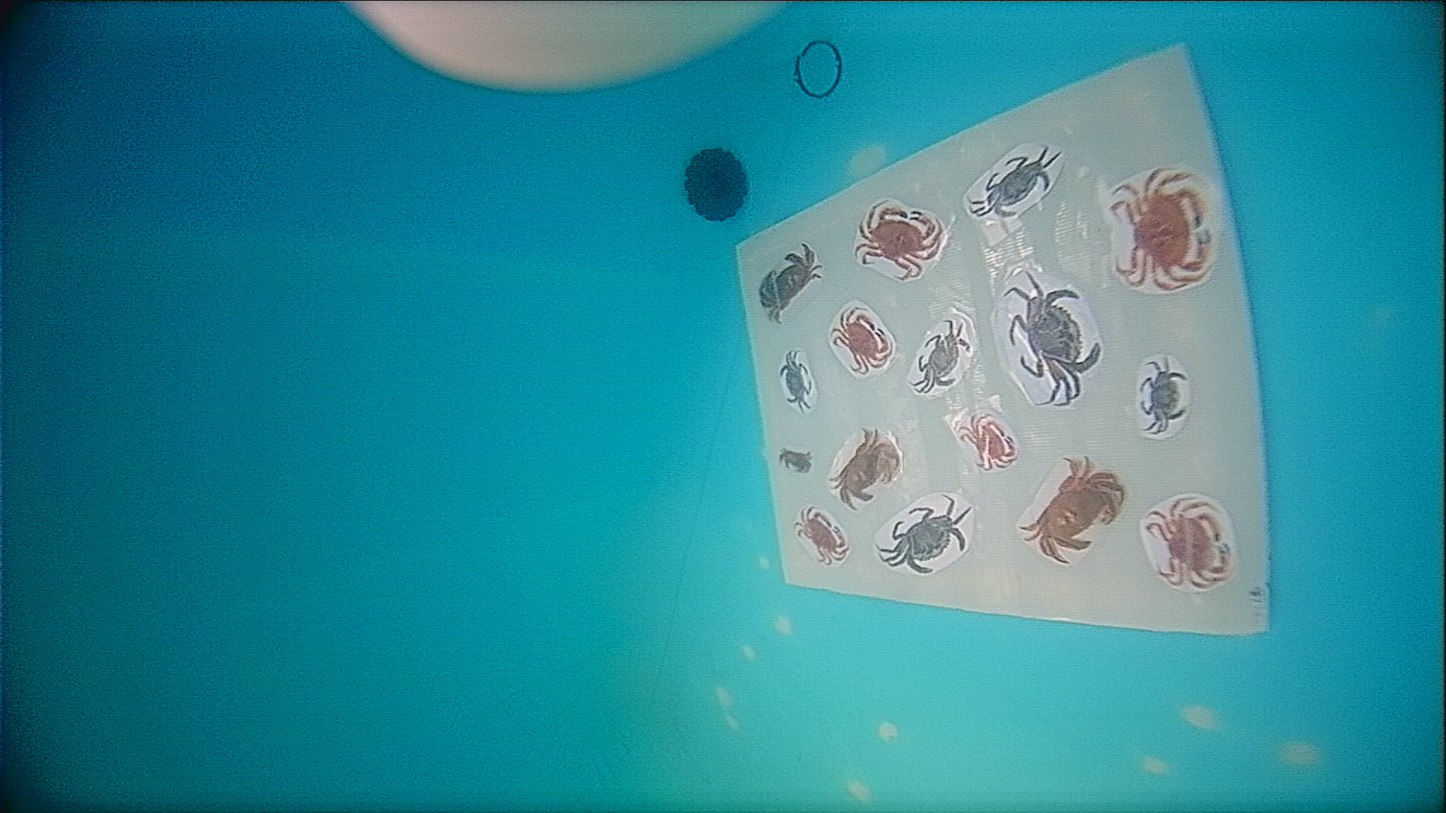GreenCrab: (1006, 272, 1100, 404), (878, 498, 972, 573), (971, 148, 1060, 215), (913, 319, 969, 392), (1139, 359, 1187, 434)
